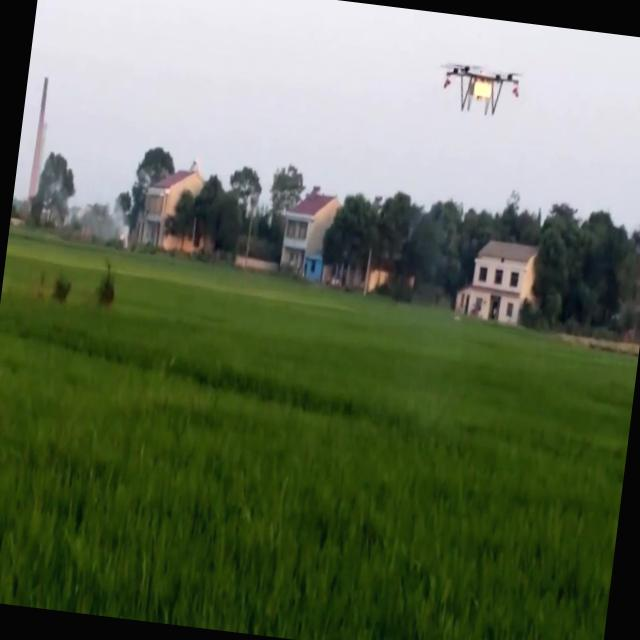drone: (434, 56, 523, 126)
